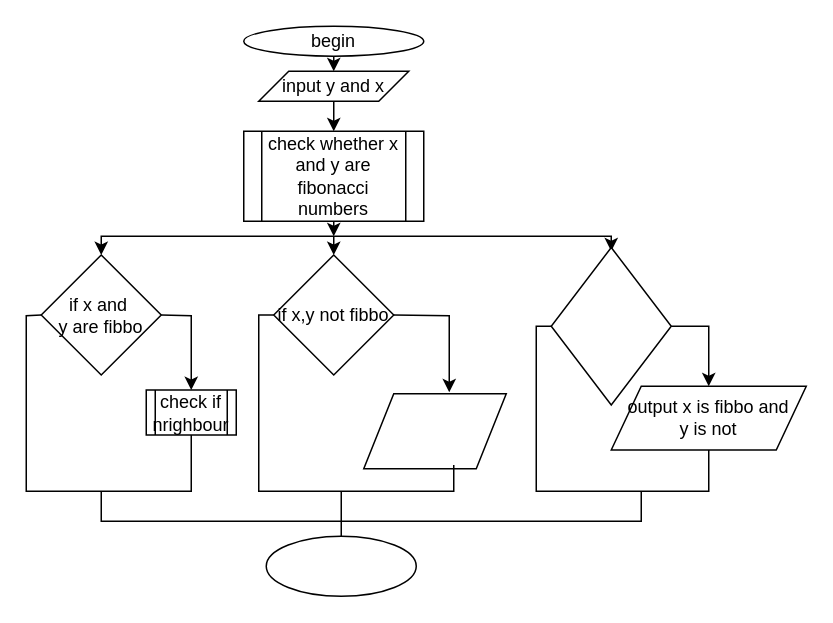
This 833x623 diagram has some shape labels left out. The shapes that lost their labels are listed below. From the top down, each one's centre as x and y in pixels, then its label:
At [610,325]: "if xis fibbo y not or vice versa".
At [434,430]: "output xandy not fibonacci".
At [340,565]: "end".
